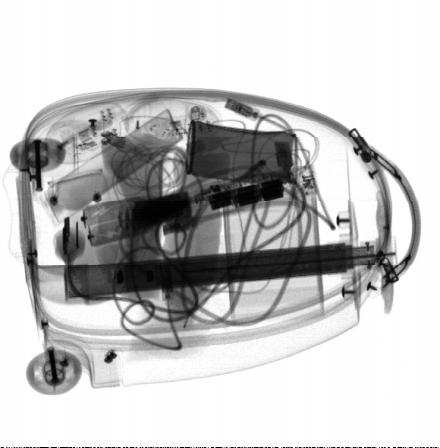Baton: (79, 165, 319, 247)
